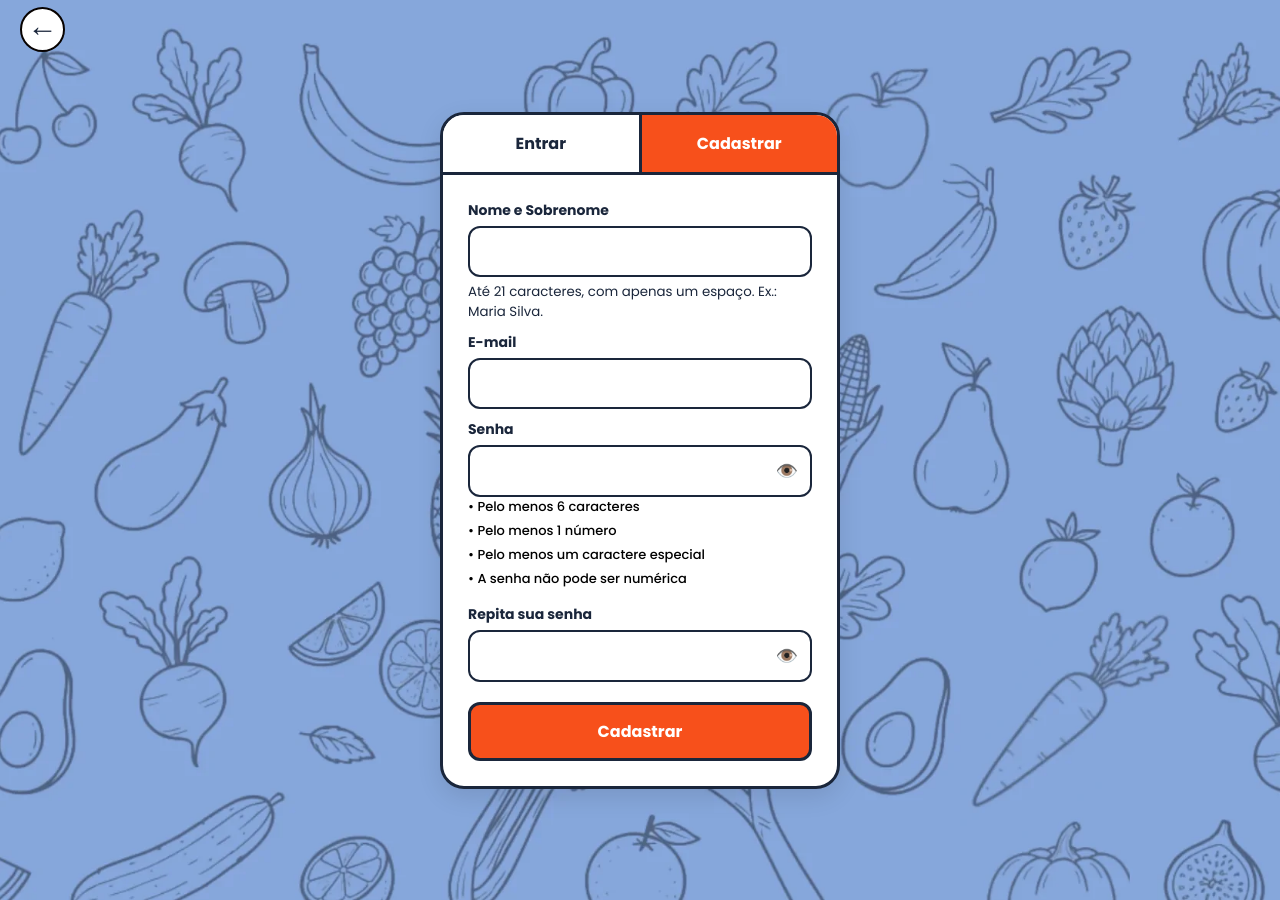
formulário real, com rede simulada › e-mail existente permanece no formulário; corrigir o endereço permite nova tentativa
In the field labelled "Nome e Sobrenome": (640,251) left=468, top=226, right=812, bottom=276, type "Teste Local"
In the field labelled "E-mail": (640,383) left=468, top=358, right=812, bottom=408, type "teste@example.com"
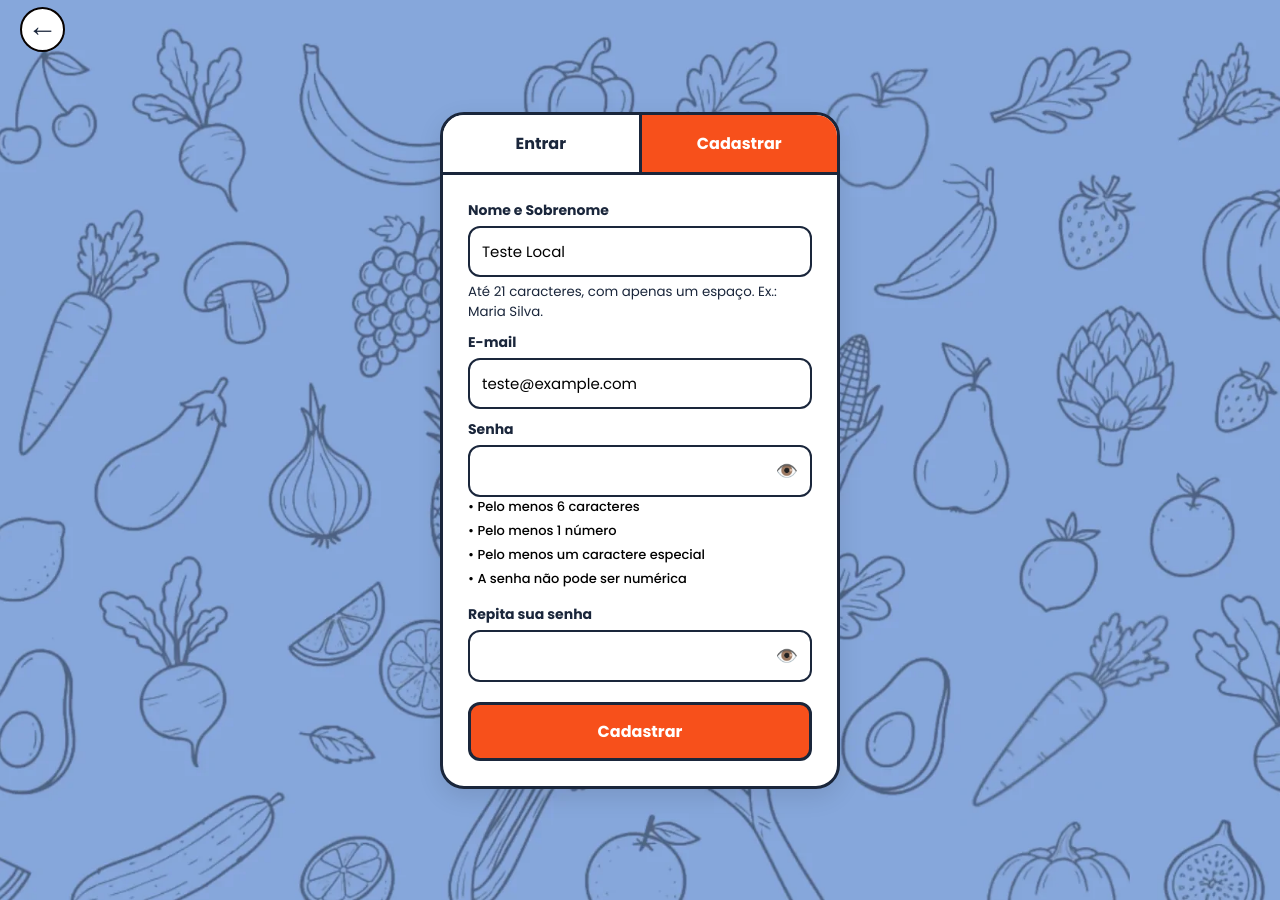
In the password field labelled "Senha": (640,470) left=470, top=446, right=810, bottom=494, type "Teste123!"
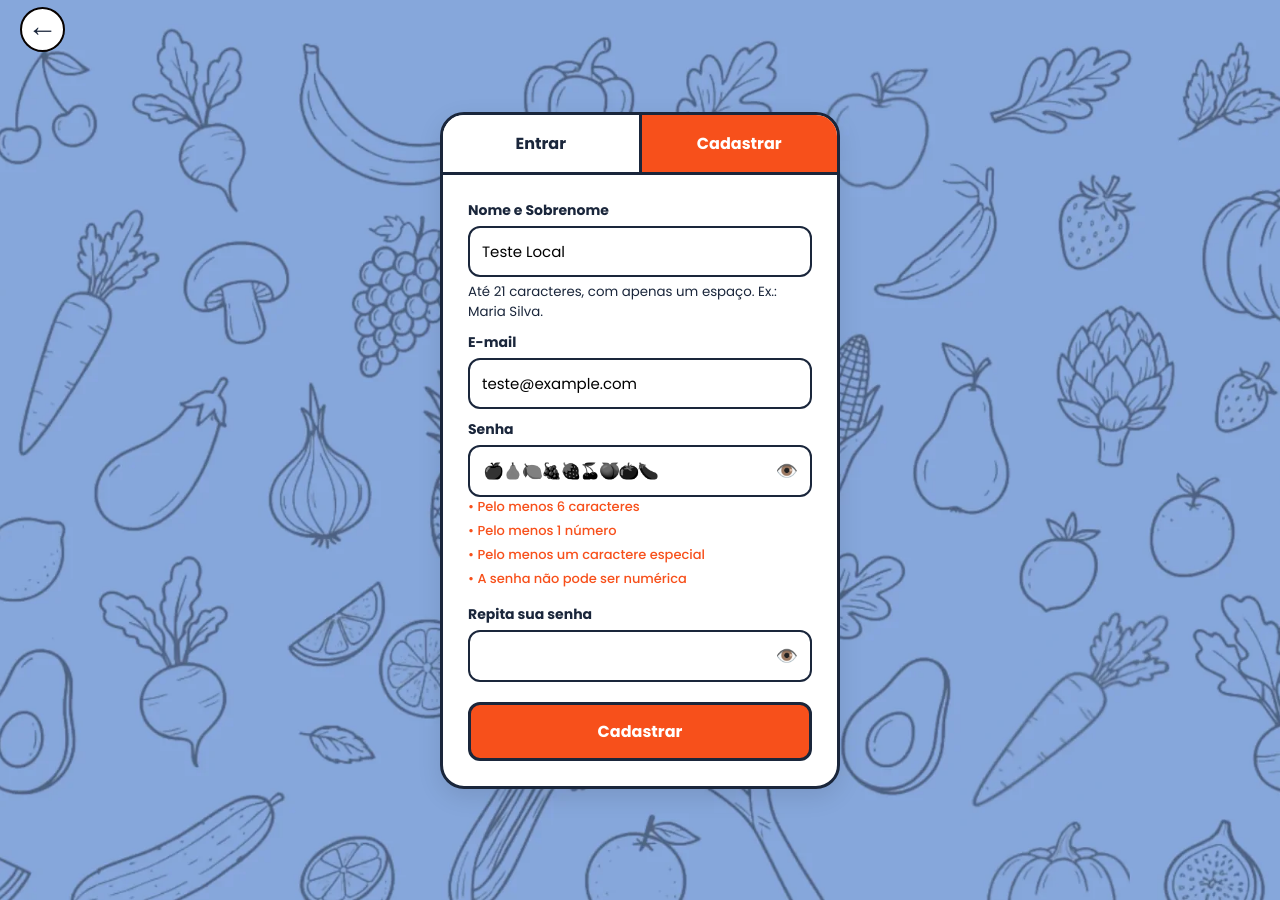
In the password field labelled "Repita sua senha": (640,656) left=470, top=632, right=810, bottom=680, type "Teste123!"
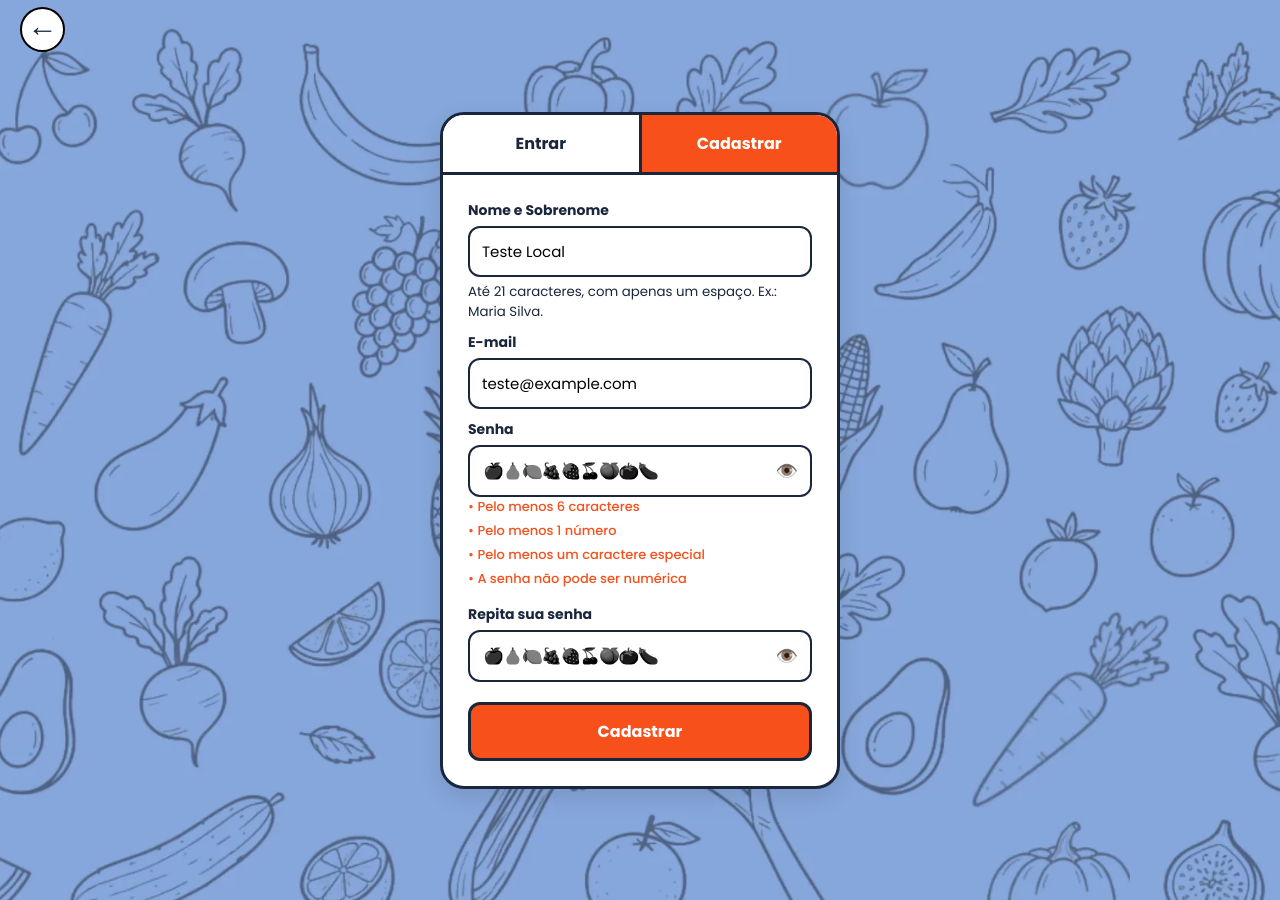
Submit the form named "E-mail", box left=443, top=174, right=837, bottom=786
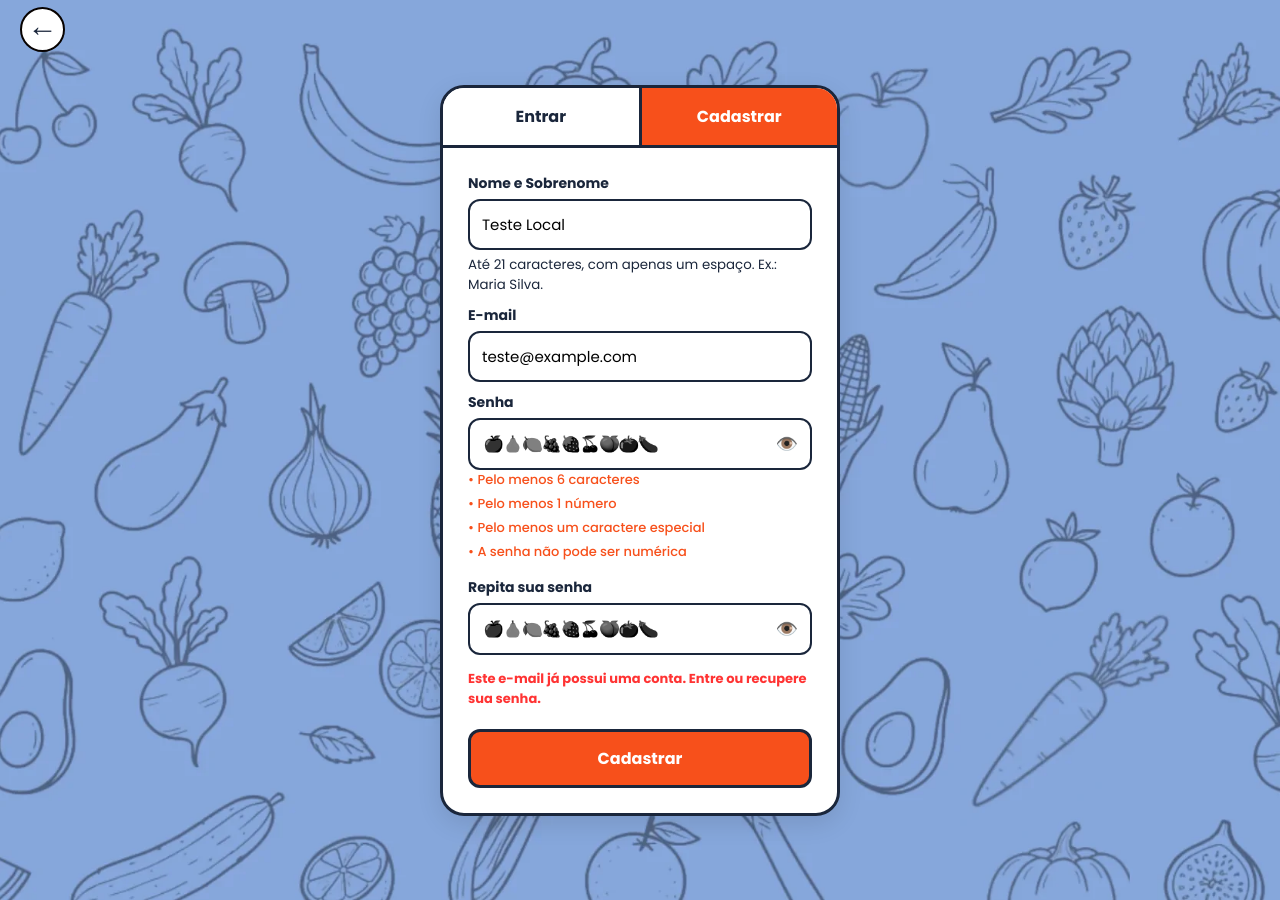
expect the heading "Verifique seu e-mail" is not shown: met
expect the text "Este e-mail já possui uma conta. Entre ou recupere sua senha." is shown: met, box left=468, top=668, right=807, bottom=708
Replace the text in the field labelled "E-mail" with "novo@example.com": (640,356) left=468, top=330, right=812, bottom=382
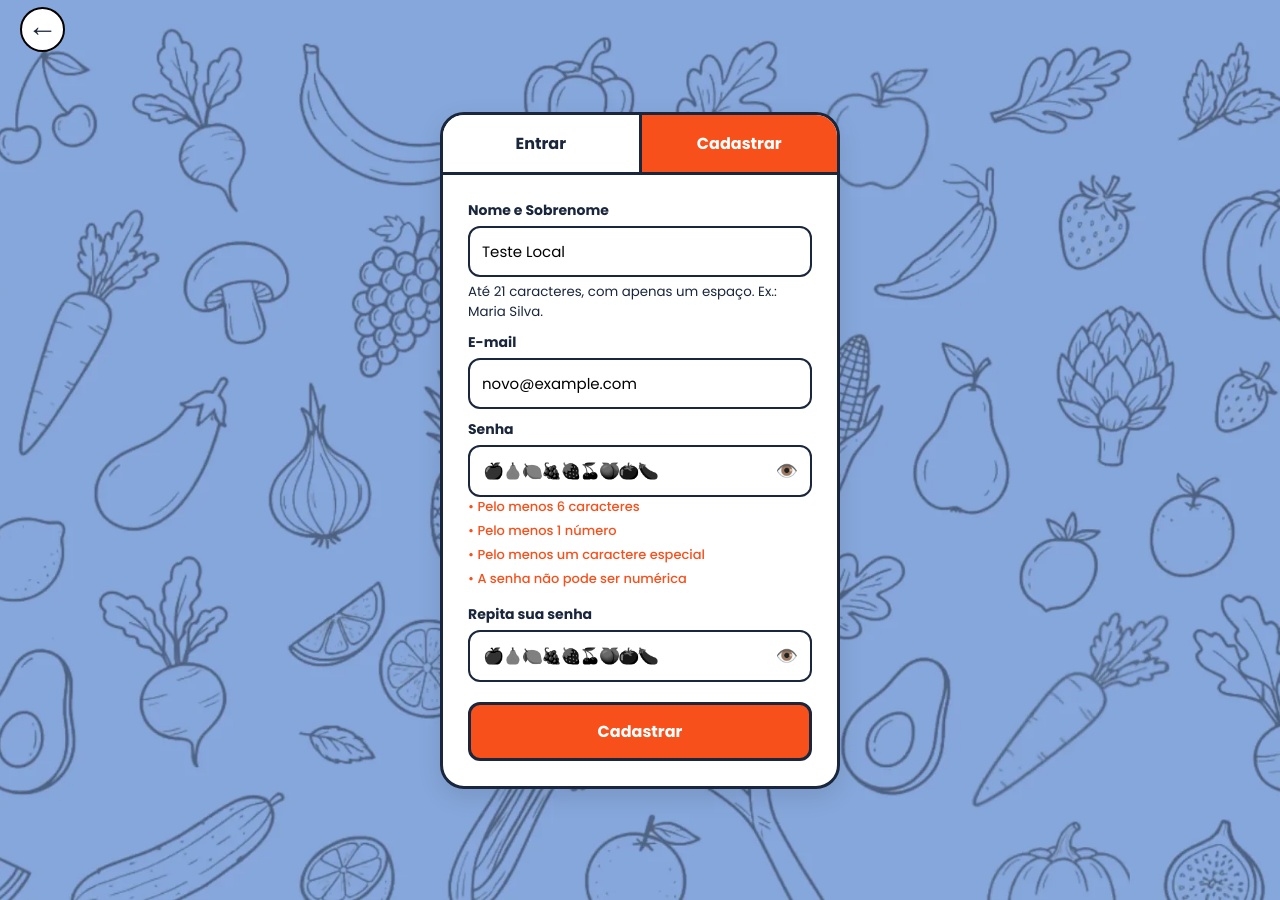
Submit the form named "E-mail", box left=443, top=174, right=837, bottom=786
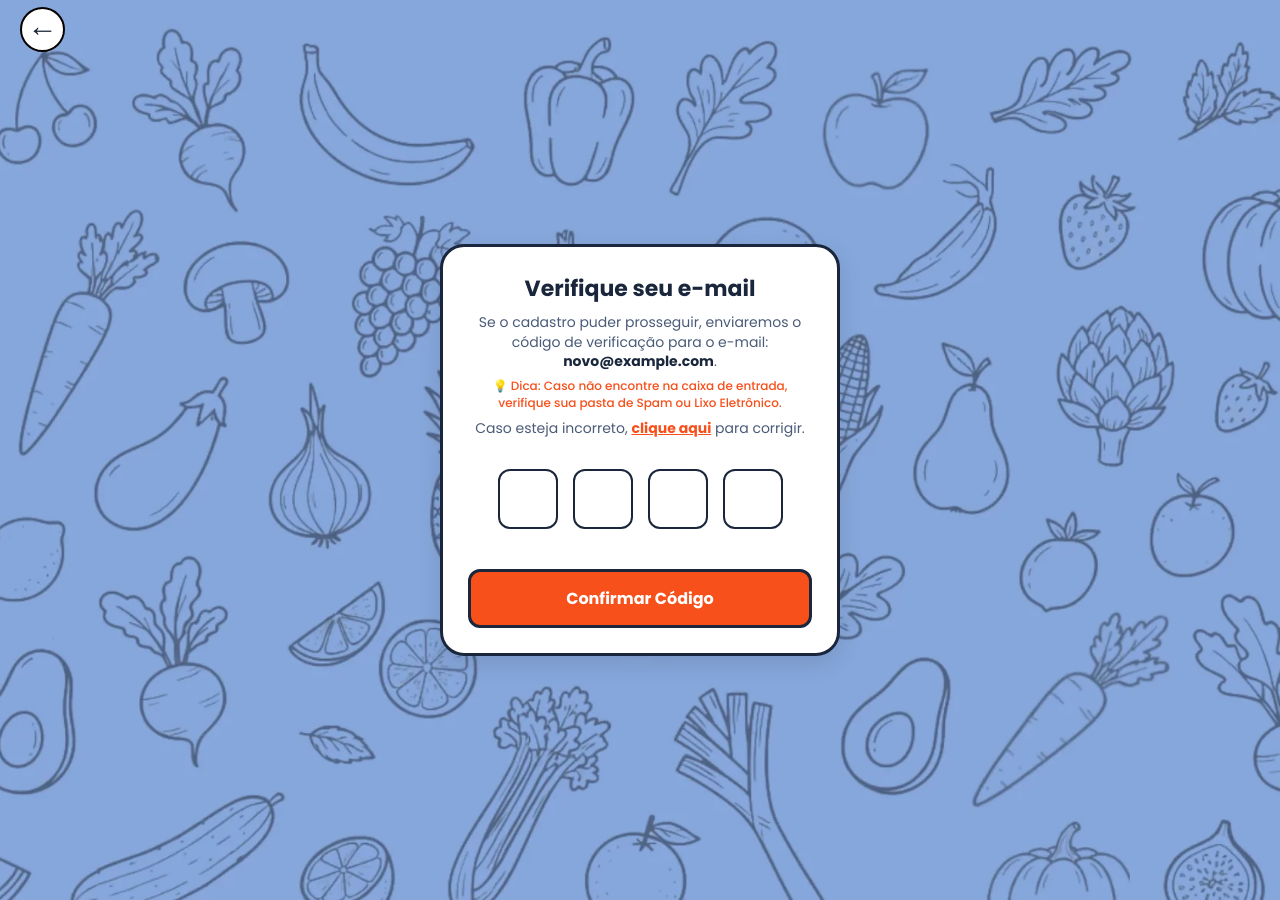
expect the heading "Verifique seu e-mail" is shown: met, box left=525, top=273, right=755, bottom=304
